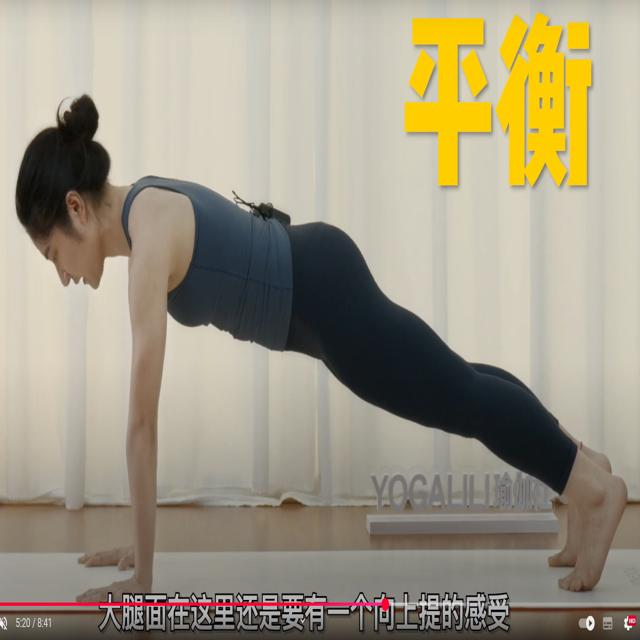Plank_Pose: (11, 120, 640, 616)
